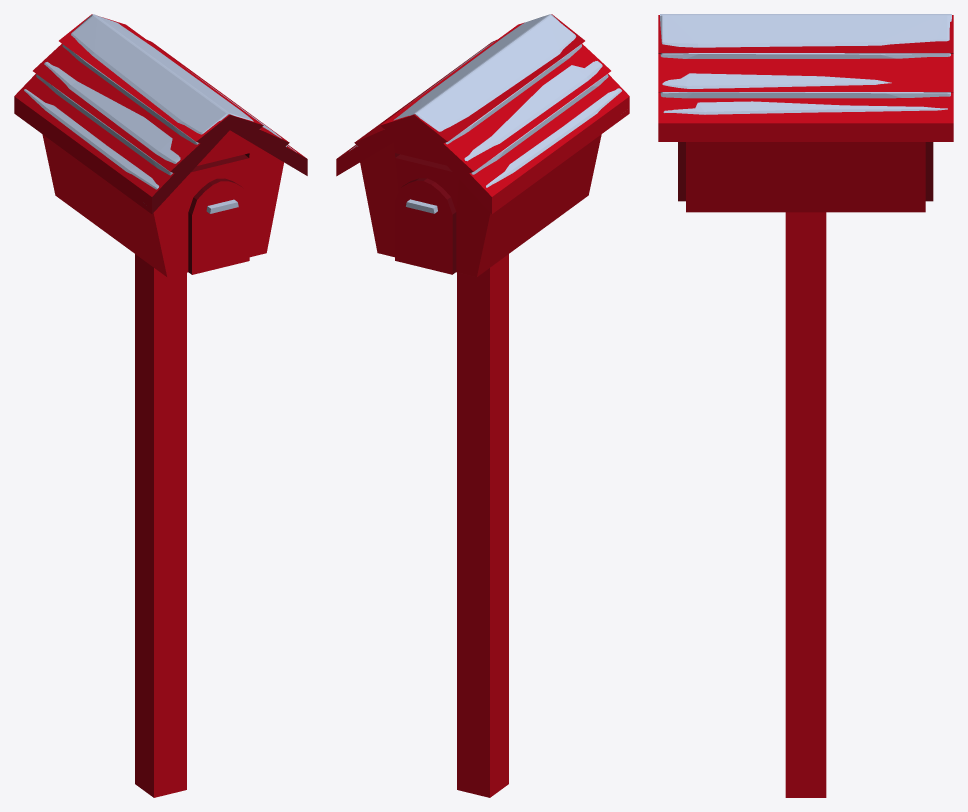
The model's file is post.glb.
The picture shows the model from 3 angles, left to right: view 1: azimuth 30°, elevation 25°; view 2: azimuth 150°, elevation 25°; view 3: azimuth 270°, elevation 25°; orthographic projection. The views are drawn at different scales.
Visible parts, largest first — view 1: pillar.002, roof, post, snowRoof, door; view 2: pillar.002, roof, post, snowRoof, door.001; view 3: pillar.002, roof, snowRoof, post, door.001.
Boxes of the visible parts, x1,y1,x2,y2 form: pillar.002: (135, 254, 186, 797); roof: (14, 14, 307, 213); post: (42, 130, 283, 277); snowRoof: (24, 14, 296, 189); door: (188, 178, 249, 274); pillar.002: (457, 254, 508, 797); roof: (336, 14, 629, 213); post: (360, 130, 601, 277); snowRoof: (350, 14, 621, 187); door.001: (395, 178, 456, 274); pillar.002: (785, 212, 826, 797); roof: (658, 15, 953, 141); snowRoof: (660, 14, 951, 114); post: (686, 142, 925, 212); door.001: (925, 142, 933, 201).
Size of the model in its own units: 1.04 by 4.59 by 1.59.
